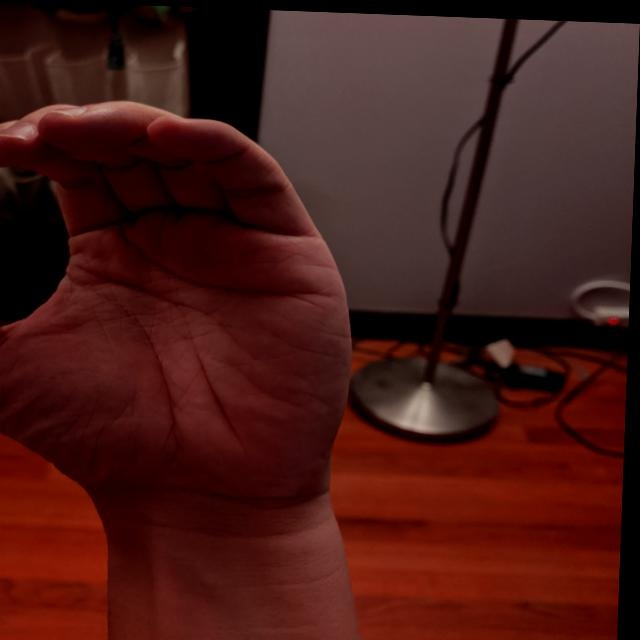C: (0, 90, 374, 522)
